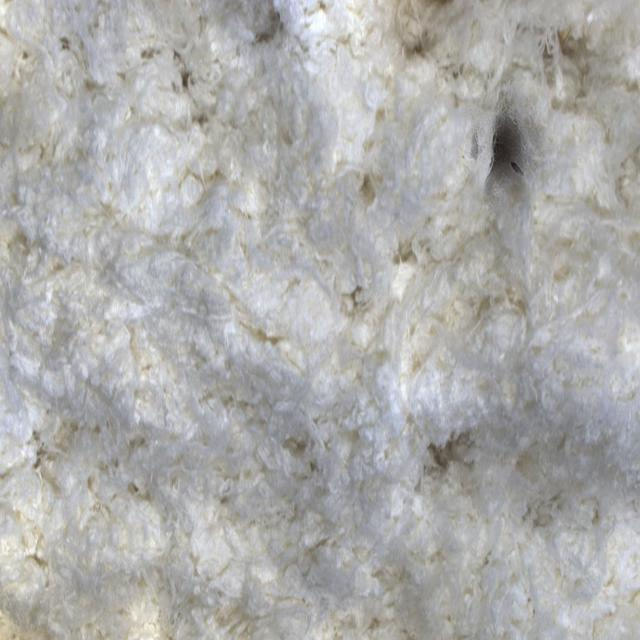dust: (448, 67, 575, 225)
